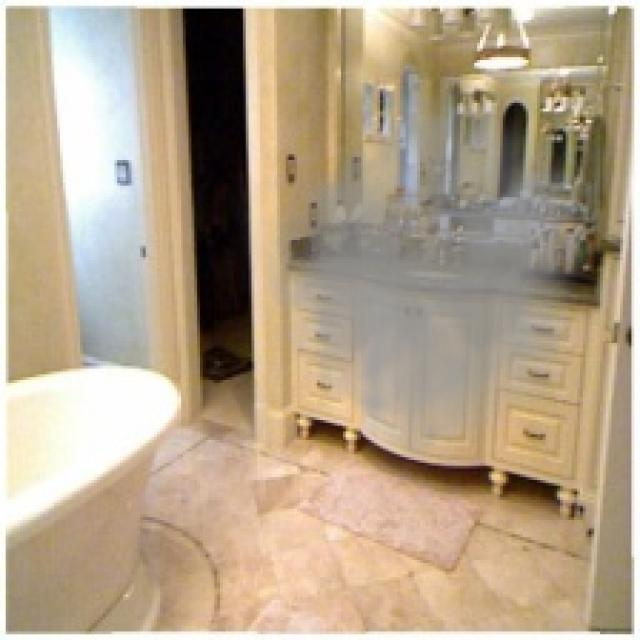Smoke: (225, 71, 600, 480)
